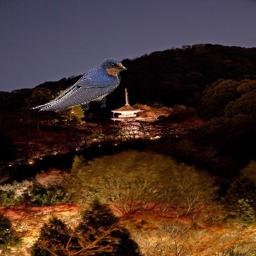Swallow: (30, 57, 127, 112)
